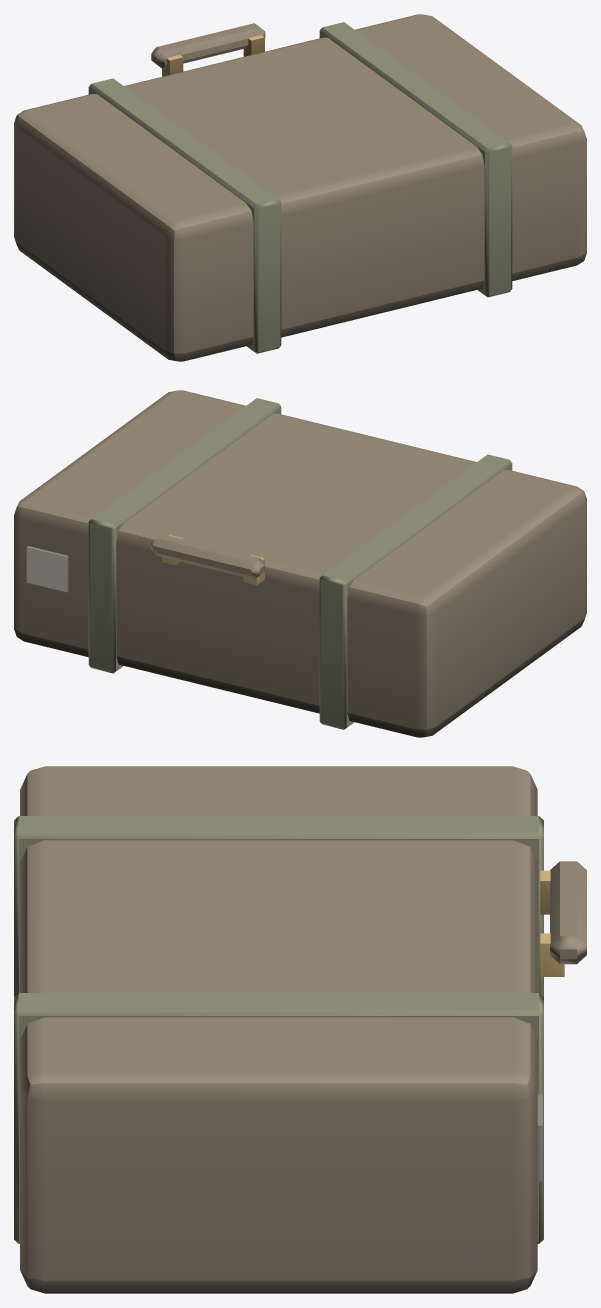
The model's file is suitcase_shut.glb.
3 renders of one model, top to bottom at view 1: azimuth 30°, elevation 25°; view 2: azimuth 150°, elevation 25°; view 3: azimuth 270°, elevation 25°, orthographic. The views are drawn at different scales.
Parts seen in each view (by area): view 1: static; view 2: static; view 3: static.
Boxes of the visible parts, <box> form: static: <box>14,14,586,361</box>; static: <box>14,390,586,737</box>; static: <box>14,766,586,1293</box>.
Bounding box in the file's own units: 0.62 × 0.2225 × 0.465.
